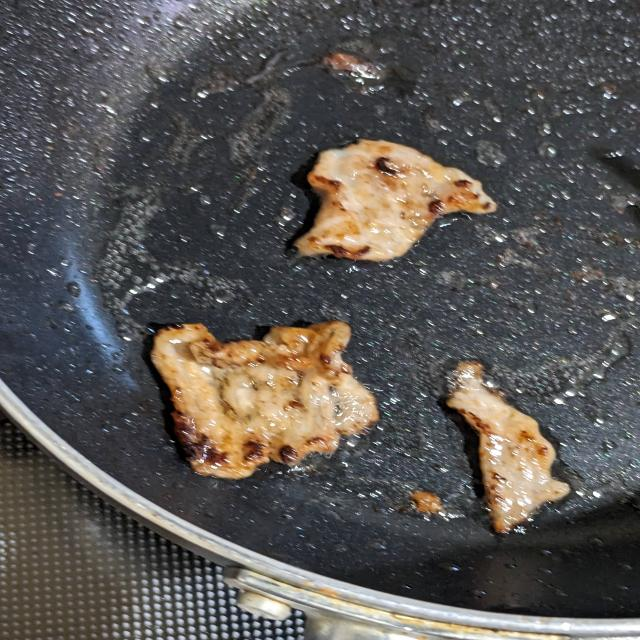OK cooked pork,: (137, 309, 394, 502), (431, 349, 583, 548), (287, 135, 515, 266)
